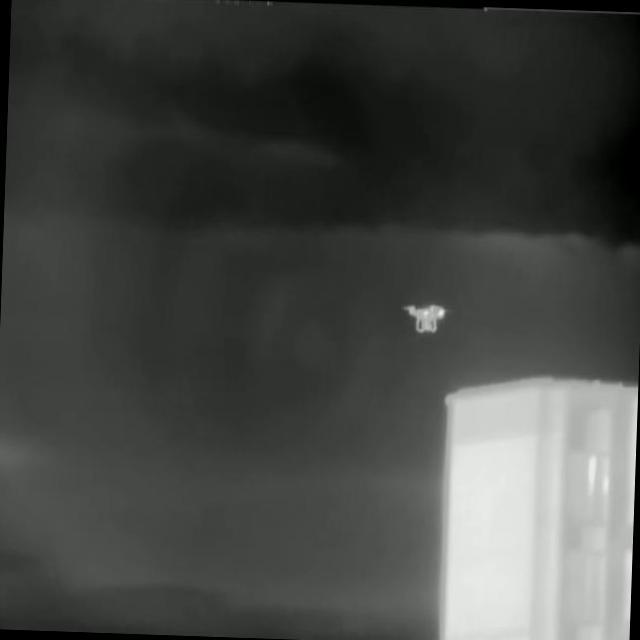DRONE: (401, 298, 453, 335)
